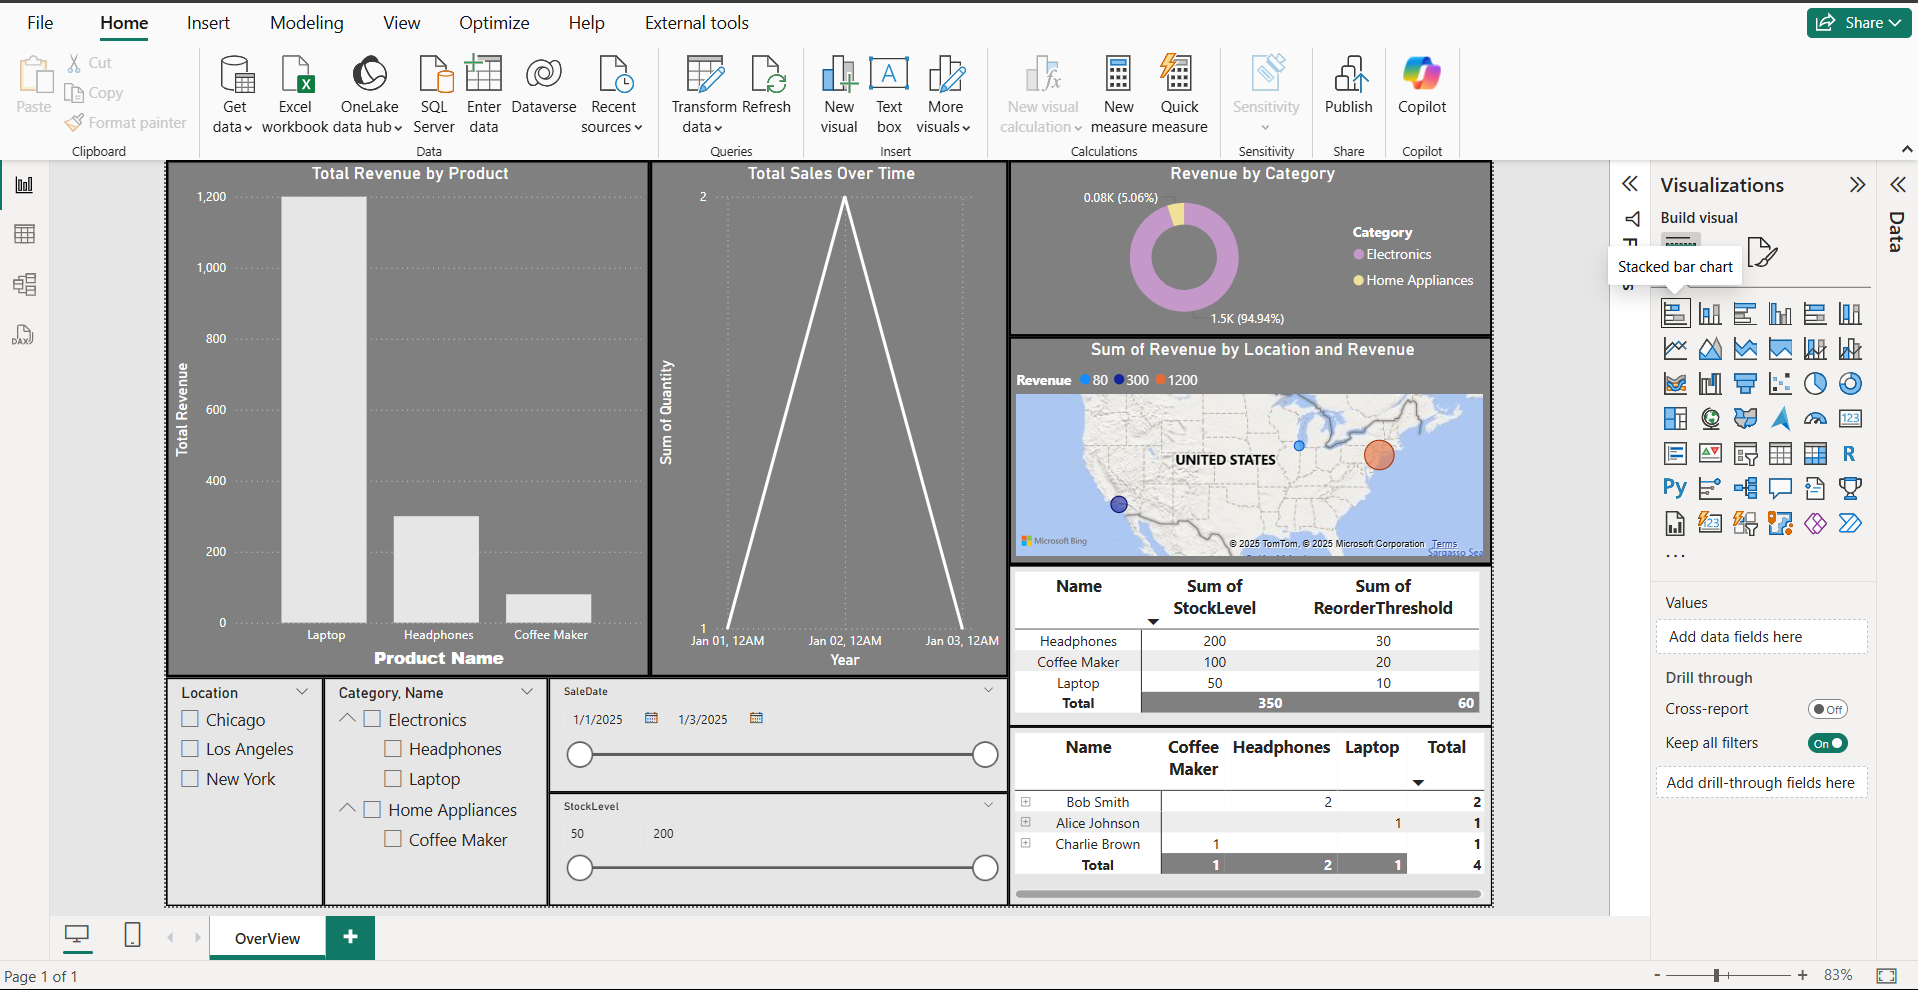

The page's visual inventory and layout, read from the dashboard file:
{"tool":"powerbi","page":{"name":"OverView","canvas":[1280,720],"ordinal":0},"visuals":[{"type":"clusteredColumnChart","title":"Total Revenue by Product","fields":{"Category":["retailsales products.Name"],"Y":["sales.Revenue"]},"box":[0,0,466.9,499.5],"z":0},{"type":"pivotTable","fields":{"Values":["inventory.StockLevel","inventory.ReorderThreshold"],"Rows":["products.Name"]},"box":[813.1,390.9,466.9,155.6],"z":1000},{"type":"lineChart","title":"Total Sales Over Time","fields":{"Y":["sales.Quantity"],"Category":["sales.SaleDate.Variation.Date Hierarchy.Year","sales.SaleDate.Variation.Date Hierarchy.Quarter","sales.SaleDate.Variation.Date Hierarchy.Month","sales.SaleDate.Variation.Date Hierarchy.Day"]},"box":[466.9,0,346.2,499.5],"z":2000},{"type":"pivotTable","fields":{"Rows":["customers.Name","customers.Email"],"Columns":["products.Name"],"Values":["sales.Quantity"]},"box":[813.1,546.5,466.9,173.7],"z":3000},{"type":"donutChart","title":"Revenue by Category","fields":{"Category":["products.Category"],"Y":["sales.Revenue"]},"box":[813.1,0,466.9,170.1],"z":4000},{"type":"map","fields":{"Category":["customers.Location"],"Series":["sales.Revenue"],"Size":["sales.Revenue"]},"box":[813.1,170.1,466.9,220.8],"z":5000},{"type":"slicer","fields":{"Values":["customers.Location"]},"box":[0,499.5,152,220.8],"z":6000},{"type":"slicer","fields":{"Values":["products.Category","products.Name"]},"box":[152,499.5,217.2,220.8],"z":7000},{"type":"slicer","fields":{"Values":["sales.SaleDate"]},"box":[369.2,499.5,444,111],"z":8000},{"type":"slicer","fields":{"Values":["inventory.StockLevel"]},"box":[369.2,610.5,444,109.8],"z":9000}]}

Visuals, with their boxes on the page's 1280x720 design canvas (x1, y1, x2, y2). These are canvas units, not pixel positions in the 1918x990 screenshot, which may show the page scaled, cropped or inside an application window:
"Total Revenue by Product" clusteredColumnChart: 0:0:467:500
pivotTable - inventory.StockLevel x inventory.ReorderThreshold: 813:391:1280:546
"Total Sales Over Time" lineChart: 467:0:813:500
pivotTable - customers.Name x customers.Email: 813:546:1280:720
"Revenue by Category" donutChart: 813:0:1280:170
map - customers.Location x sales.Revenue: 813:170:1280:391
slicer - customers.Location: 0:500:152:720
slicer - products.Category x products.Name: 152:500:369:720
slicer - sales.SaleDate: 369:500:813:610
slicer - inventory.StockLevel: 369:610:813:720
